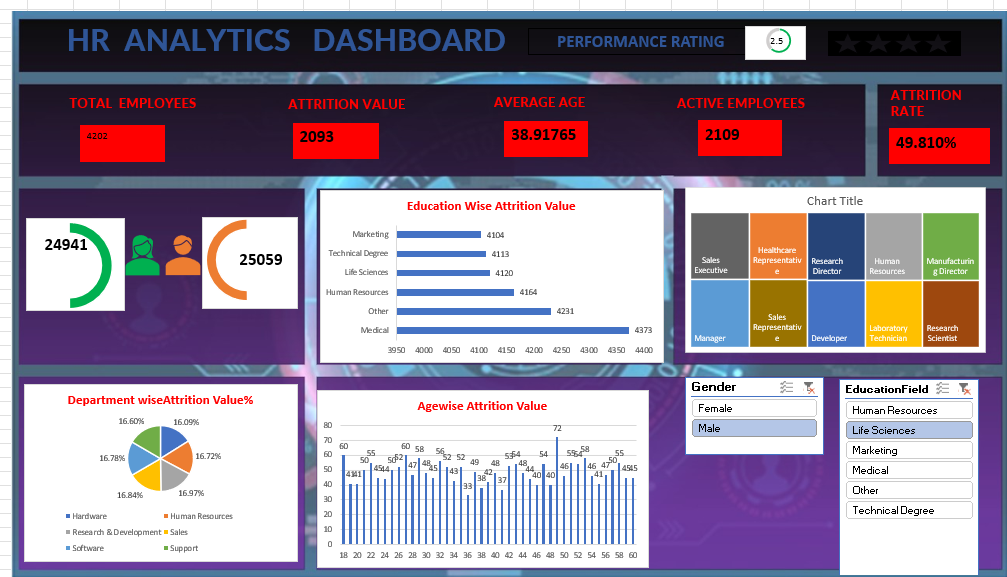

This screenshot's page, from the dashboard's own definition file:
{"tool":"powerbi","page":{"name":"DASHBOARD","canvas":[1280,720],"ordinal":0},"visuals":[{"type":"textbox","box":[0,0,1280,50],"z":0},{"type":"card","title":"TOTAL EMPLOYEES","fields":{"Values":["CountNonNull(Merged Hr1 & Hr2.EmployeeNumber)"]},"box":[44,45,183.3,74],"z":1000},{"type":"card","title":"ATTRITION","fields":{"Values":["Sum(Merged Hr1 & Hr2.Attrition ValueCustom)"]},"box":[300,48.3,181.7,74],"z":2000},{"type":"card","title":"ATTRITION RATE","fields":{"Values":["Merged Hr1 & Hr2.Attrition Rate"]},"box":[550,48.3,186,74],"z":3000},{"type":"card","title":"ACTIVE EMPLOYEE","fields":{"Values":["Merged Hr1 & Hr2.Active Employees"]},"box":[803.3,50,181.7,74],"z":4000},{"type":"card","title":"AVERAGE RATE","fields":{"Values":["Avg(Merged Hr1 & Hr2.Age)"]},"box":[1041.7,48.3,181.7,74],"z":5000},{"type":"pieChart","title":"Sum of Attrition Value by Department","fields":{"Category":["Merged Hr1 & Hr2.Department"],"Y":["Sum(Merged Hr1 & Hr2.Attrition ValueCustom)"]},"box":[10,134,416,222],"z":6000},{"type":"columnChart","fields":{"Y":["Sum(Merged Hr1 & Hr2.EmployeeCount)"],"Category":["Merged Hr1 & Hr2.Age"],"Series":["Merged Hr1 & Hr2.Gender"]},"box":[454,412,630,286],"z":7000},{"type":"pivotTable","title":"Job Satisfaction Rating","fields":{"Rows":["Merged Hr1 & Hr2.JobRole"],"Columns":["Merged Hr1 & Hr2.JobSatisfaction"],"Values":["Sum(Merged Hr1 & Hr2.EmployeeCount)"]},"box":[0,412,436,286],"z":8000},{"type":"barChart","title":"Worklife Balance by JobRole","fields":{"Y":["Sum(Merged Hr1 & Hr2.worklife Balance)"],"Category":["Merged Hr1 & Hr2.JobRole"]},"box":[440,130,408,230],"z":9000},{"type":"treemap","fields":{"Group":["Merged Hr1 & Hr2.EducationField"],"Values":["Merged Hr1 & Hr2.Attrition Rate"]},"box":[848,130,432,226],"z":10000},{"type":"slicer","fields":{"Values":["Merged Hr1 & Hr2.EducationField"]},"box":[1098,498,182,222],"z":11000},{"type":"slicer","fields":{"Values":["Merged Hr1 & Hr2.Gender"]},"box":[1098,398,182,100],"z":12000},{"type":"textbox","box":[1110,362,154,36],"z":13000}]}

Visuals, with their boxes in screenshot pixels (x1, y1, x2, y2), scaled from the page's 1280x720 canvas onto the 1007x577 screenshot:
textbox: [left=0, top=0, right=1006, bottom=40]
"TOTAL EMPLOYEES" card: [left=35, top=36, right=179, bottom=95]
"ATTRITION" card: [left=236, top=39, right=379, bottom=98]
"ATTRITION RATE" card: [left=433, top=39, right=579, bottom=98]
"ACTIVE EMPLOYEE" card: [left=632, top=40, right=775, bottom=99]
"AVERAGE RATE" card: [left=820, top=39, right=962, bottom=98]
"Sum of Attrition Value by Department" pieChart: [left=8, top=107, right=335, bottom=285]
columnChart - Sum(Merged Hr1 & Hr2.EmployeeCount) x Merged Hr1 & Hr2.Age: [left=357, top=330, right=853, bottom=559]
"Job Satisfaction Rating" pivotTable: [left=0, top=330, right=343, bottom=559]
"Worklife Balance by JobRole" barChart: [left=346, top=104, right=667, bottom=288]
treemap - Merged Hr1 & Hr2.EducationField x Merged Hr1 & Hr2.Attrition Rate: [left=667, top=104, right=1006, bottom=285]
slicer - Merged Hr1 & Hr2.EducationField: [left=864, top=399, right=1006, bottom=576]
slicer - Merged Hr1 & Hr2.Gender: [left=864, top=319, right=1006, bottom=399]
textbox: [left=873, top=290, right=994, bottom=319]
